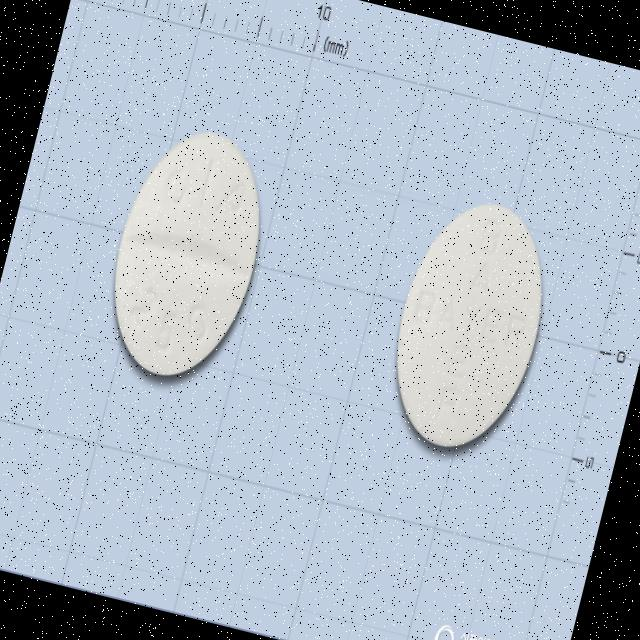Ciprobay: (364, 182, 572, 475), (84, 112, 292, 400)
